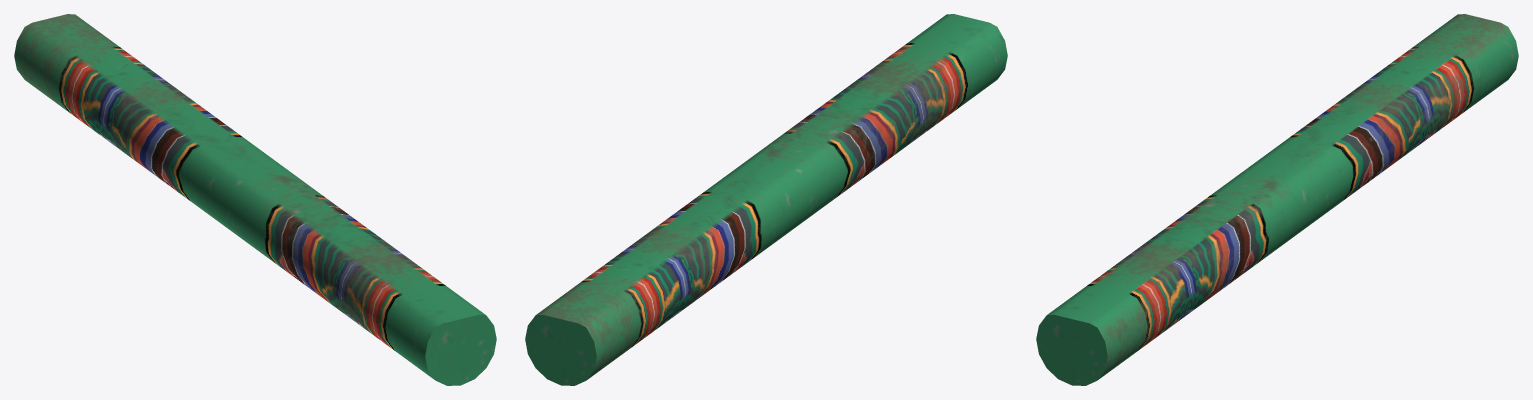
The model's file is SM_Lintel03a.fbx.
The picture shows the model from 3 angles, left to right: view 1: azimuth 30°, elevation 25°; view 2: azimuth 150°, elevation 25°; view 3: azimuth 330°, elevation 25°; orthographic projection.
Visible parts, largest first — view 1: SM_Lintel03a; view 2: SM_Lintel03a; view 3: SM_Lintel03a.
Part boxes in pixels (x1,y1,x2,y2): SM_Lintel03a: (14,14,496,385); SM_Lintel03a: (525,14,1007,385); SM_Lintel03a: (1036,14,1518,385).
Size of the model in its own units: 30.23 by 300 by 26.72.
1 material, 1 textured.
